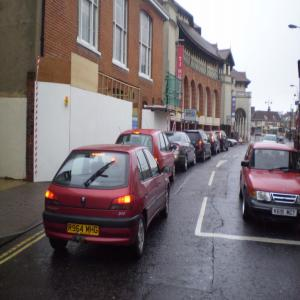Vehicle-registration-plate: (67, 225, 100, 237), (274, 209, 299, 218)
